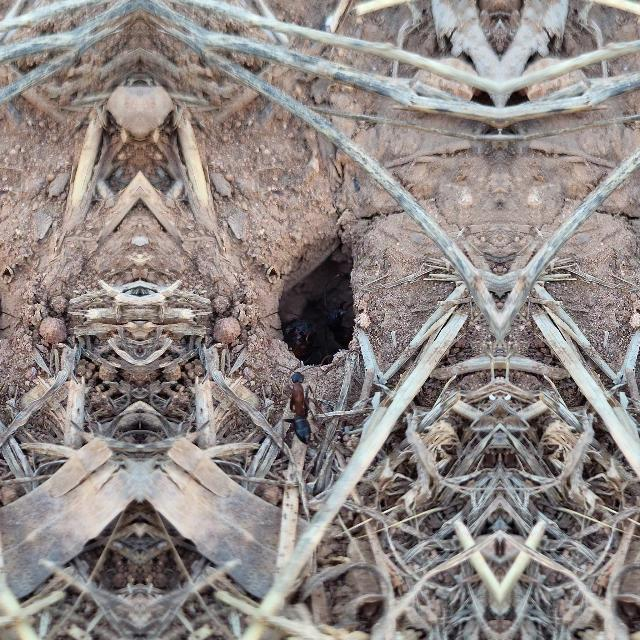Camponotus: (282, 362, 316, 453), (316, 298, 362, 354), (278, 306, 310, 366)
